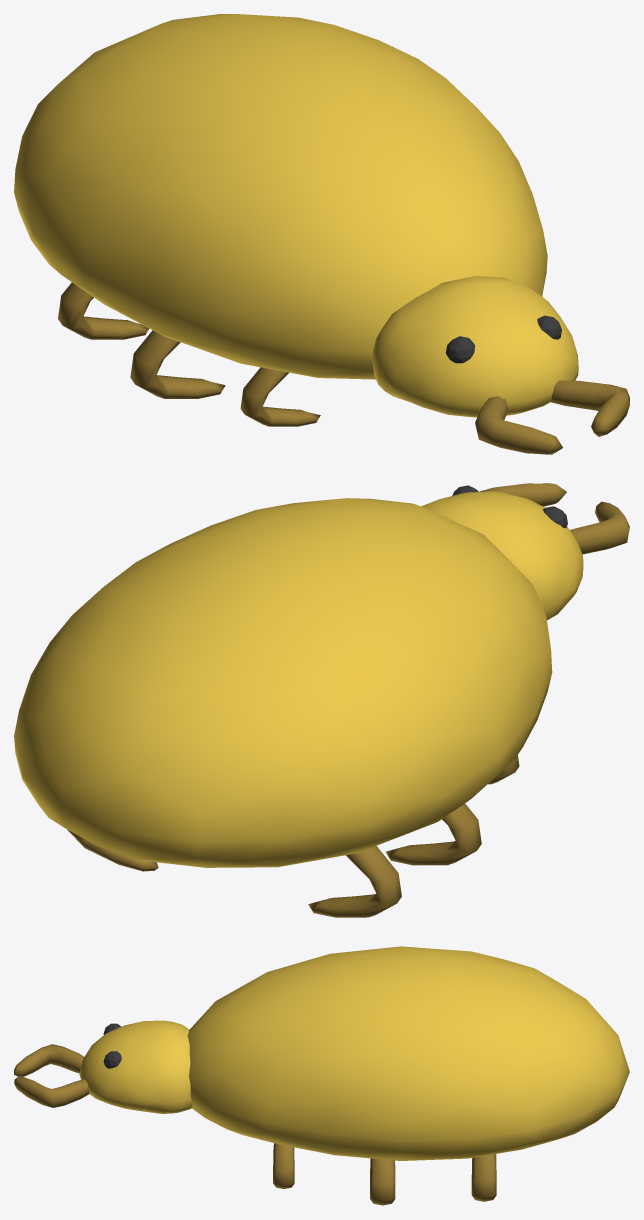
File: Bug.fbx
The picture shows the model from 3 angles, top to bottom: view 1: azimuth 30°, elevation 25°; view 2: azimuth 150°, elevation 25°; view 3: azimuth 270°, elevation 25°; orthographic projection. The views are drawn at different scales.
Parts seen in each view (by area): view 1: Icosphere, Icosphere.003, Cube.004, Cube, Cube.001, Cube.006, Cube.003, Icosphere.001; view 2: Icosphere, Icosphere.003, Cube.006, Cube.004, Cube.001, Cube, Cube.007; view 3: Icosphere, Icosphere.003, Cube, Cube.001, Cube.005, Cube.007, Cube.002.
Boxes of the visible parts, box(x1,y1,x2,y2) form: Icosphere: box(14, 14, 547, 379); Icosphere.003: box(372, 276, 578, 417); Cube.004: box(130, 330, 225, 398); Cube: box(549, 380, 629, 436); Cube.001: box(475, 396, 562, 454); Cube.006: box(58, 282, 149, 339); Cube.003: box(240, 367, 320, 426); Icosphere.001: box(446, 336, 475, 363); Icosphere: box(14, 498, 552, 867); Icosphere.003: box(421, 491, 583, 620); Cube.006: box(308, 846, 401, 917); Cube.004: box(386, 803, 481, 865); Cube.001: box(570, 501, 629, 554); Cube: box(479, 483, 566, 506); Cube.007: box(67, 829, 158, 871); Icosphere: box(187, 946, 629, 1160); Icosphere.003: box(79, 1020, 192, 1113); Cube: box(14, 1076, 89, 1107); Cube.001: box(14, 1044, 84, 1076); Cube.005: box(370, 1158, 395, 1205); Cube.007: box(471, 1154, 496, 1201); Cube.002: box(273, 1143, 294, 1188).
Bounding box in the file's own units: 238 × 166 × 461.
